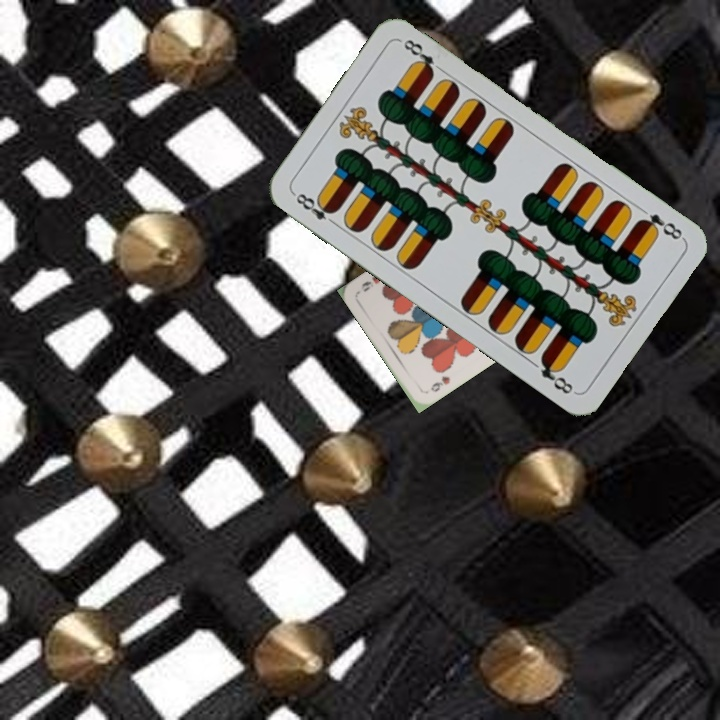E8: (289, 189, 340, 229), (633, 209, 686, 243)
H9: (427, 372, 453, 395)
